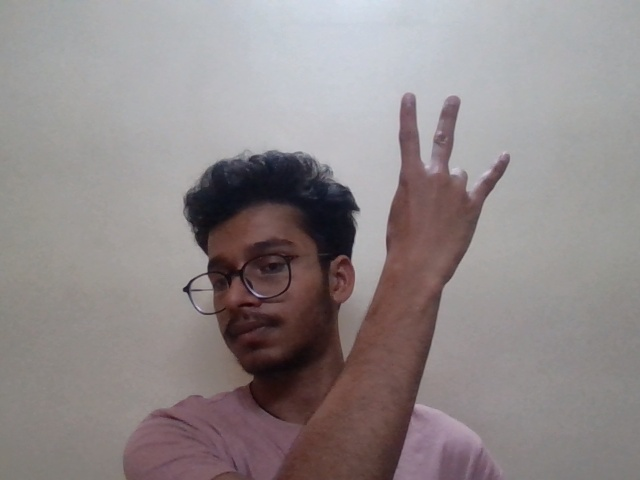why: (382, 88, 523, 273)
